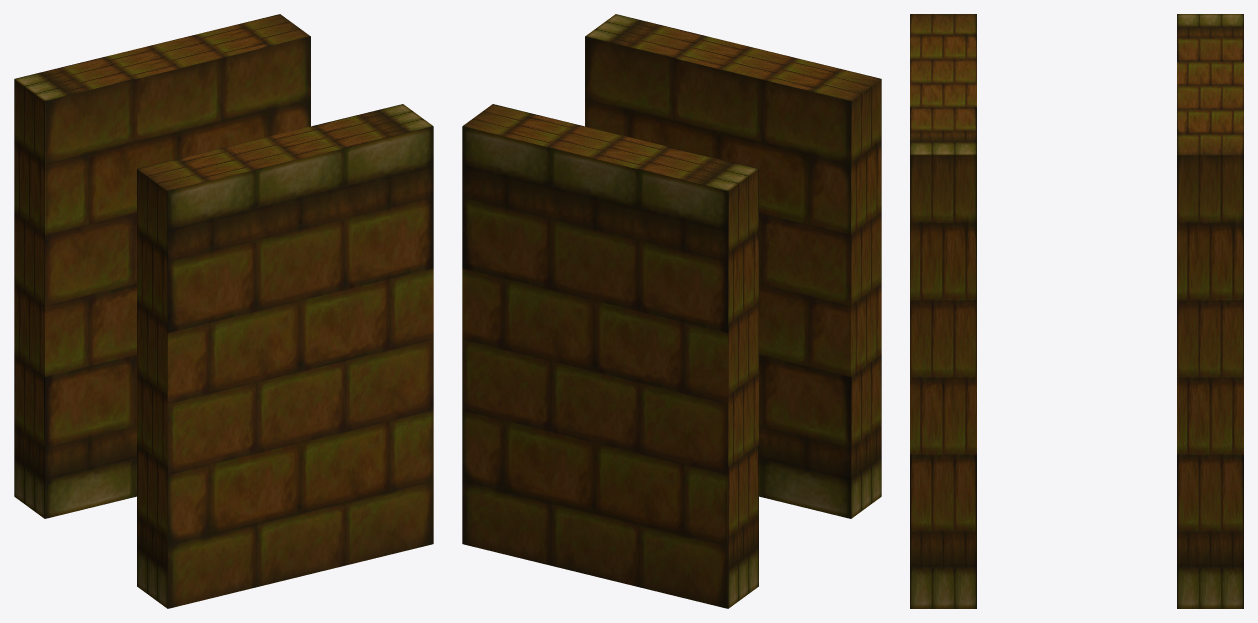
File: mur_deux_opposes.obj
The picture shows the model from 3 angles, left to right: view 1: azimuth 30°, elevation 25°; view 2: azimuth 150°, elevation 25°; view 3: azimuth 270°, elevation 25°; orthographic projection. The views are drawn at different scales.
Visible parts, largest first — view 1: Cube; view 2: Cube; view 3: Cube.
Part boxes in pixels (x1,y1,x2,y2): Cube: [14, 14, 433, 608]; Cube: [462, 14, 881, 608]; Cube: [910, 14, 1243, 608].
Size of the model in its own units: 2 by 3 by 2.
Materials: 2 (2 with a texture image).
